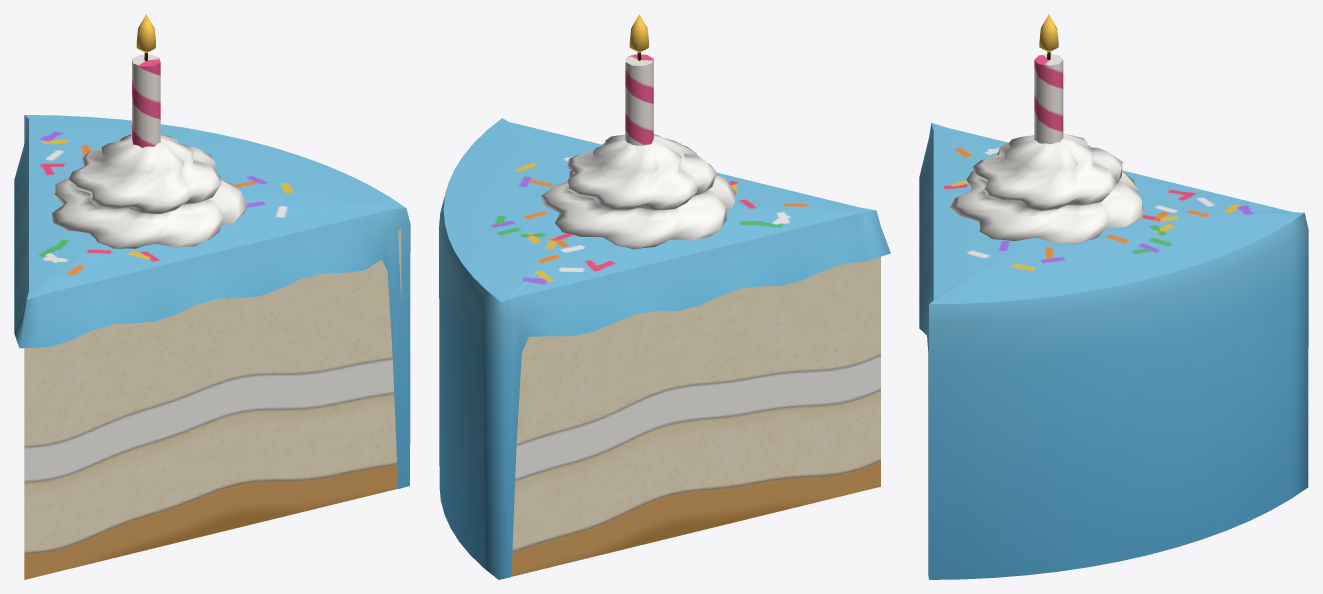
The model's file is birthday_slice.glb.
3 renders of one model, left to right at view 1: azimuth 30°, elevation 25°; view 2: azimuth 150°, elevation 25°; view 3: azimuth 270°, elevation 25°, orthographic.
Parts seen in each view (by area): view 1: BirthdaySlice; view 2: BirthdaySlice; view 3: BirthdaySlice.
Boxes of the visible parts, <box> form: BirthdaySlice: <box>14,14,410,579</box>; BirthdaySlice: <box>439,14,890,579</box>; BirthdaySlice: <box>919,14,1308,579</box>.
Bounding box in the file's own units: 1.04 × 1.21 × 0.9096.
1 material, 1 textured.
